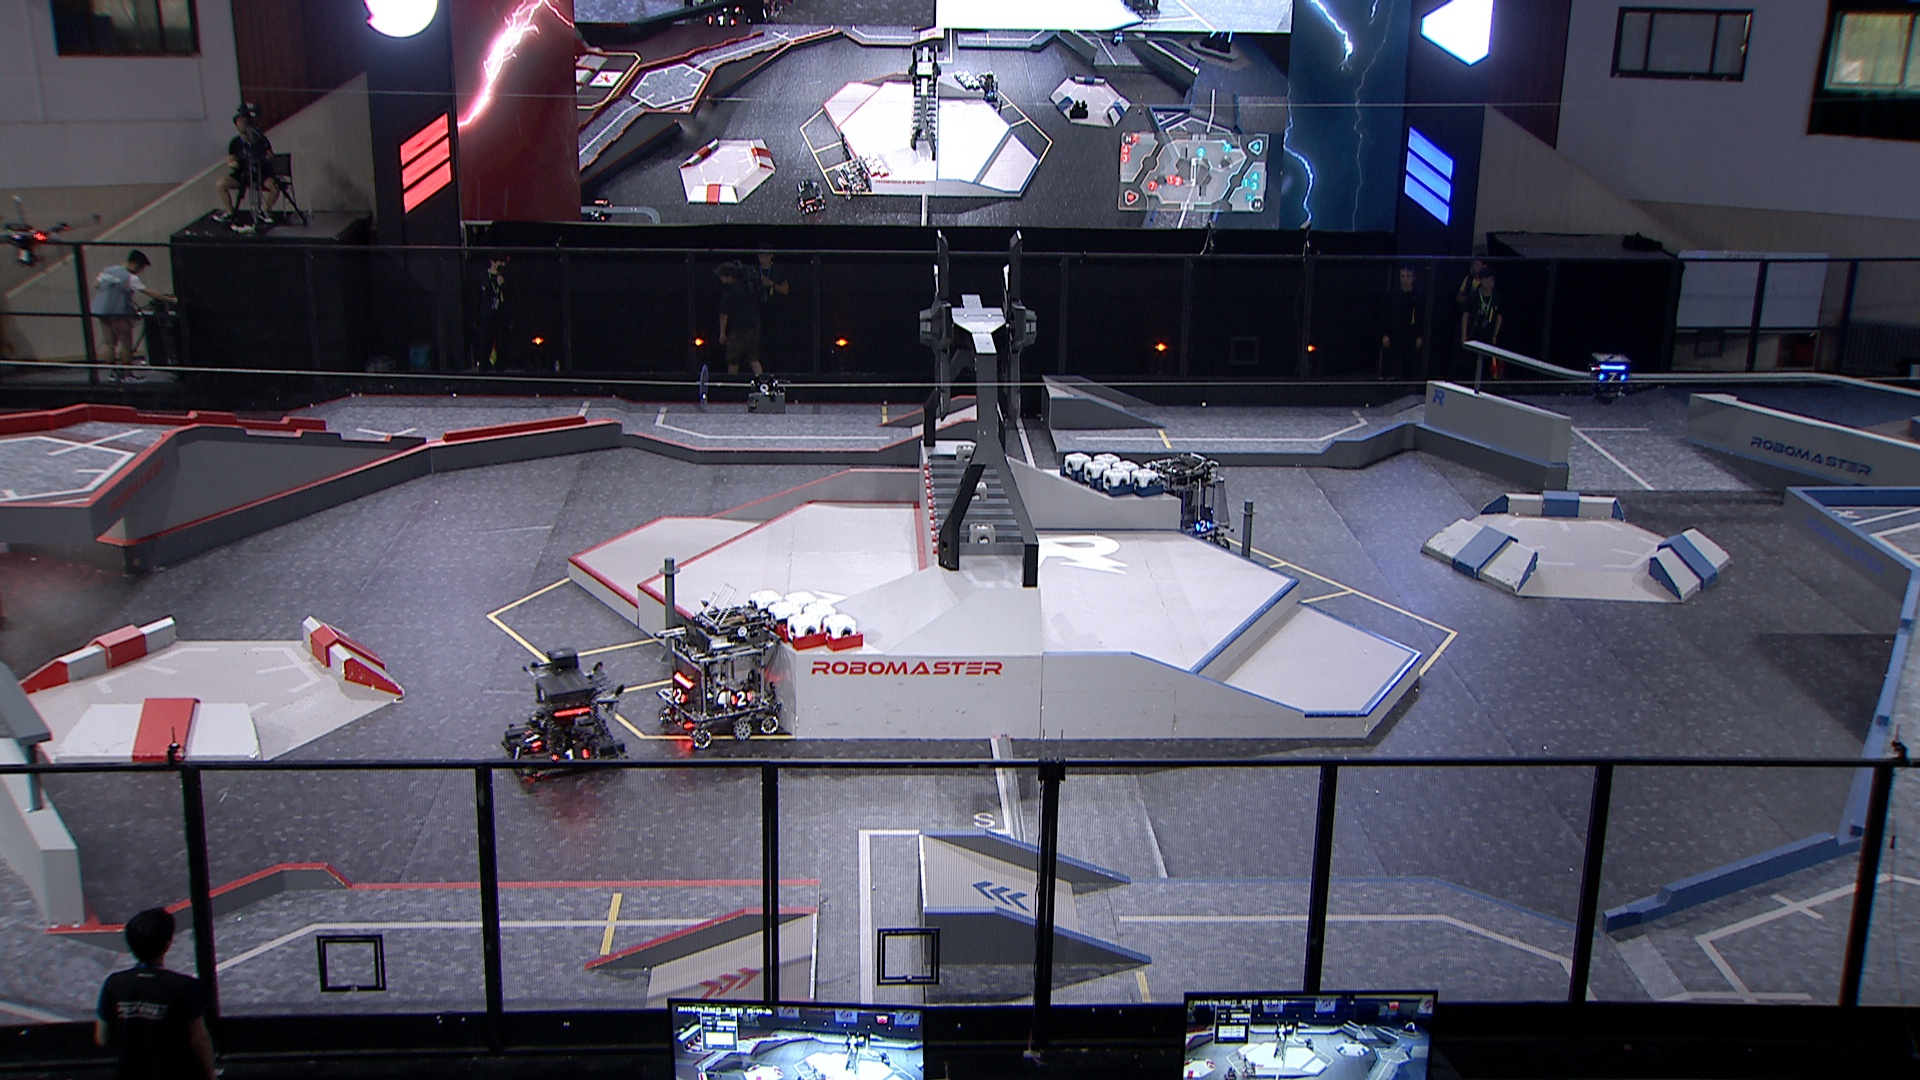armor: (547, 750, 589, 766), (522, 727, 543, 749), (1598, 371, 1626, 384), (510, 742, 527, 764), (731, 692, 756, 705), (673, 687, 688, 704), (1193, 518, 1211, 531)
car: (655, 600, 785, 750), (500, 647, 628, 789), (1135, 451, 1236, 556)
ignore: (832, 157, 873, 196), (790, 175, 825, 215), (973, 71, 1005, 105), (585, 199, 613, 225), (1204, 29, 1234, 51)
watcher: (1589, 351, 1636, 405)
